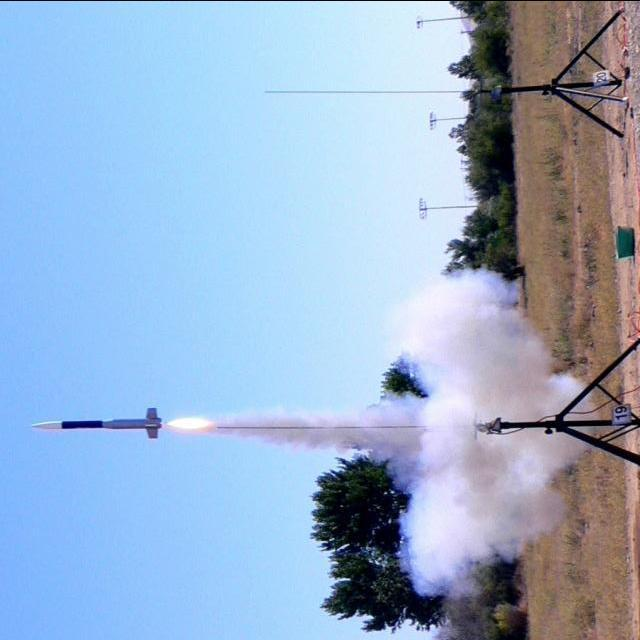missile: (26, 396, 178, 448)
